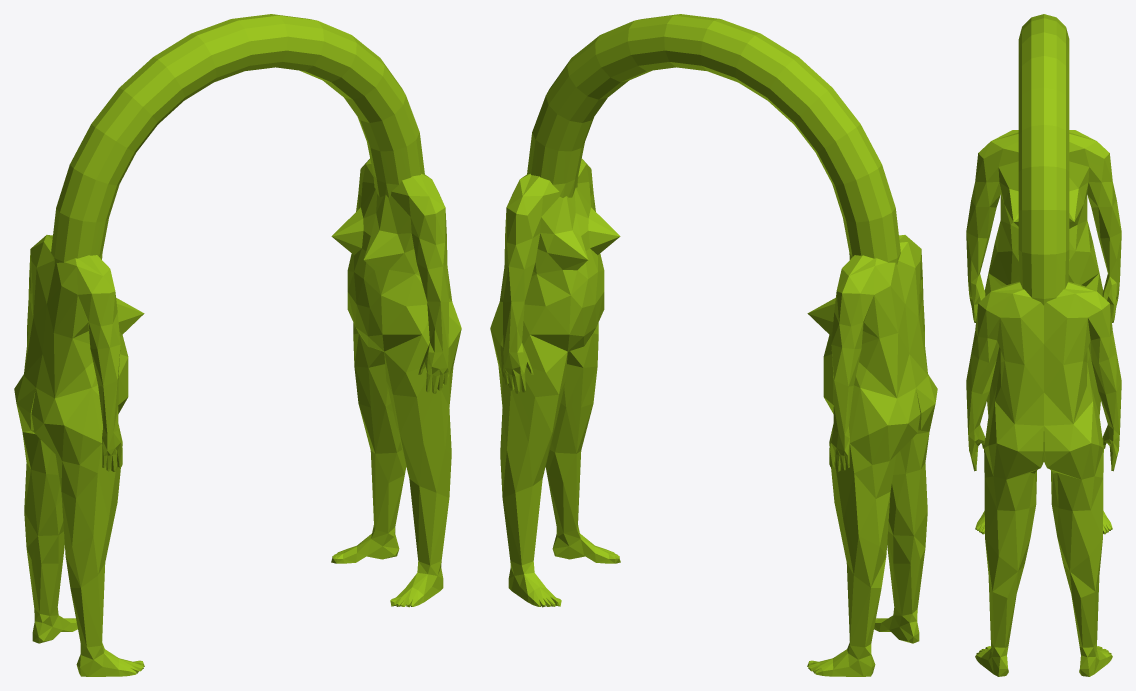
The model's file is SM_Okuda_Arch.fbx.
The picture shows the model from 3 angles, left to right: view 1: azimuth 30°, elevation 25°; view 2: azimuth 150°, elevation 25°; view 3: azimuth 270°, elevation 25°; orthographic projection. The views are drawn at different scales.
Parts seen in each view (by area): view 1: SM_Okuda_Arch; view 2: SM_Okuda_Arch; view 3: SM_Okuda_Arch.
Part boxes in pixels (<box>): SM_Okuda_Arch: <box>14,14,461,676</box>; SM_Okuda_Arch: <box>490,14,937,676</box>; SM_Okuda_Arch: <box>966,14,1121,676</box>.
Bounding box in the file's own units: 451 × 616 × 155.
